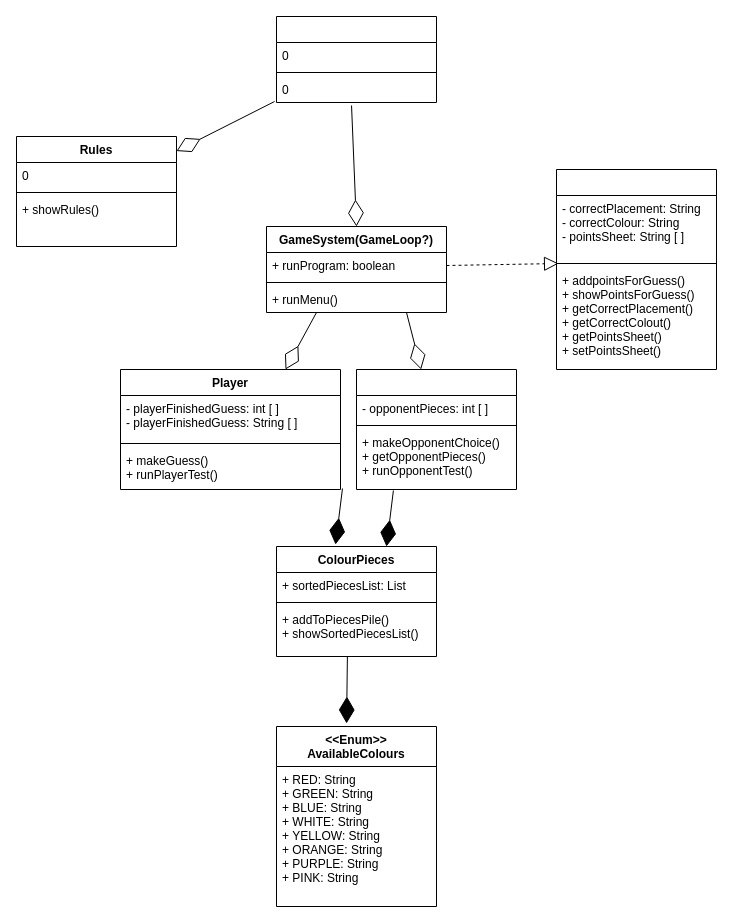
This 733x923 diagram has some shape labels left out. The shapes that lost their labels are listed below. From the top down, each one's box as (x1, y1, x2, y2) in pixels, then its label:
(276, 16, 436, 102): Menu
(556, 168, 716, 370): compareGuess
(356, 368, 516, 490): Opponent(Answere?)
